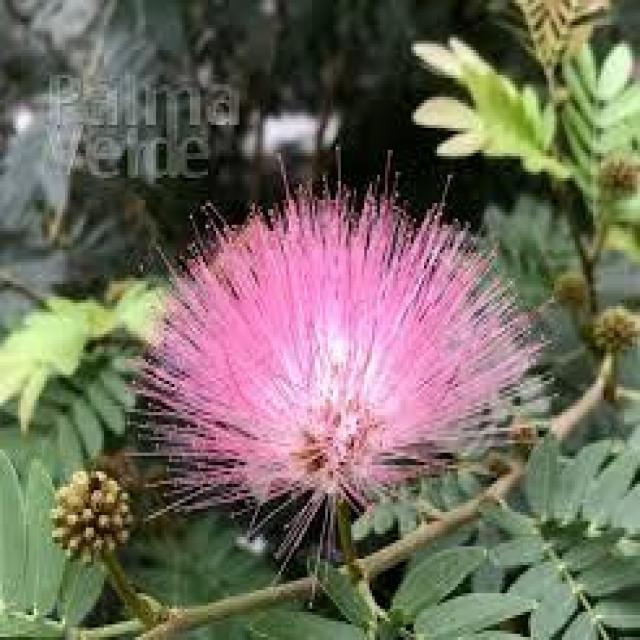organic waste: (103, 167, 558, 535)
